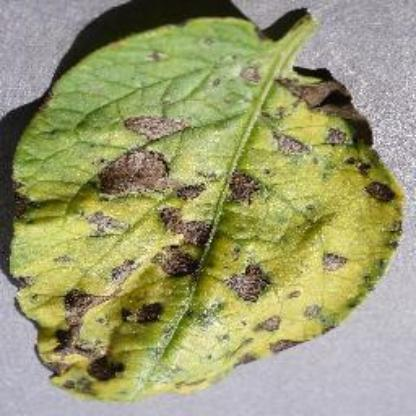Early-Blight: (7, 9, 407, 404)
